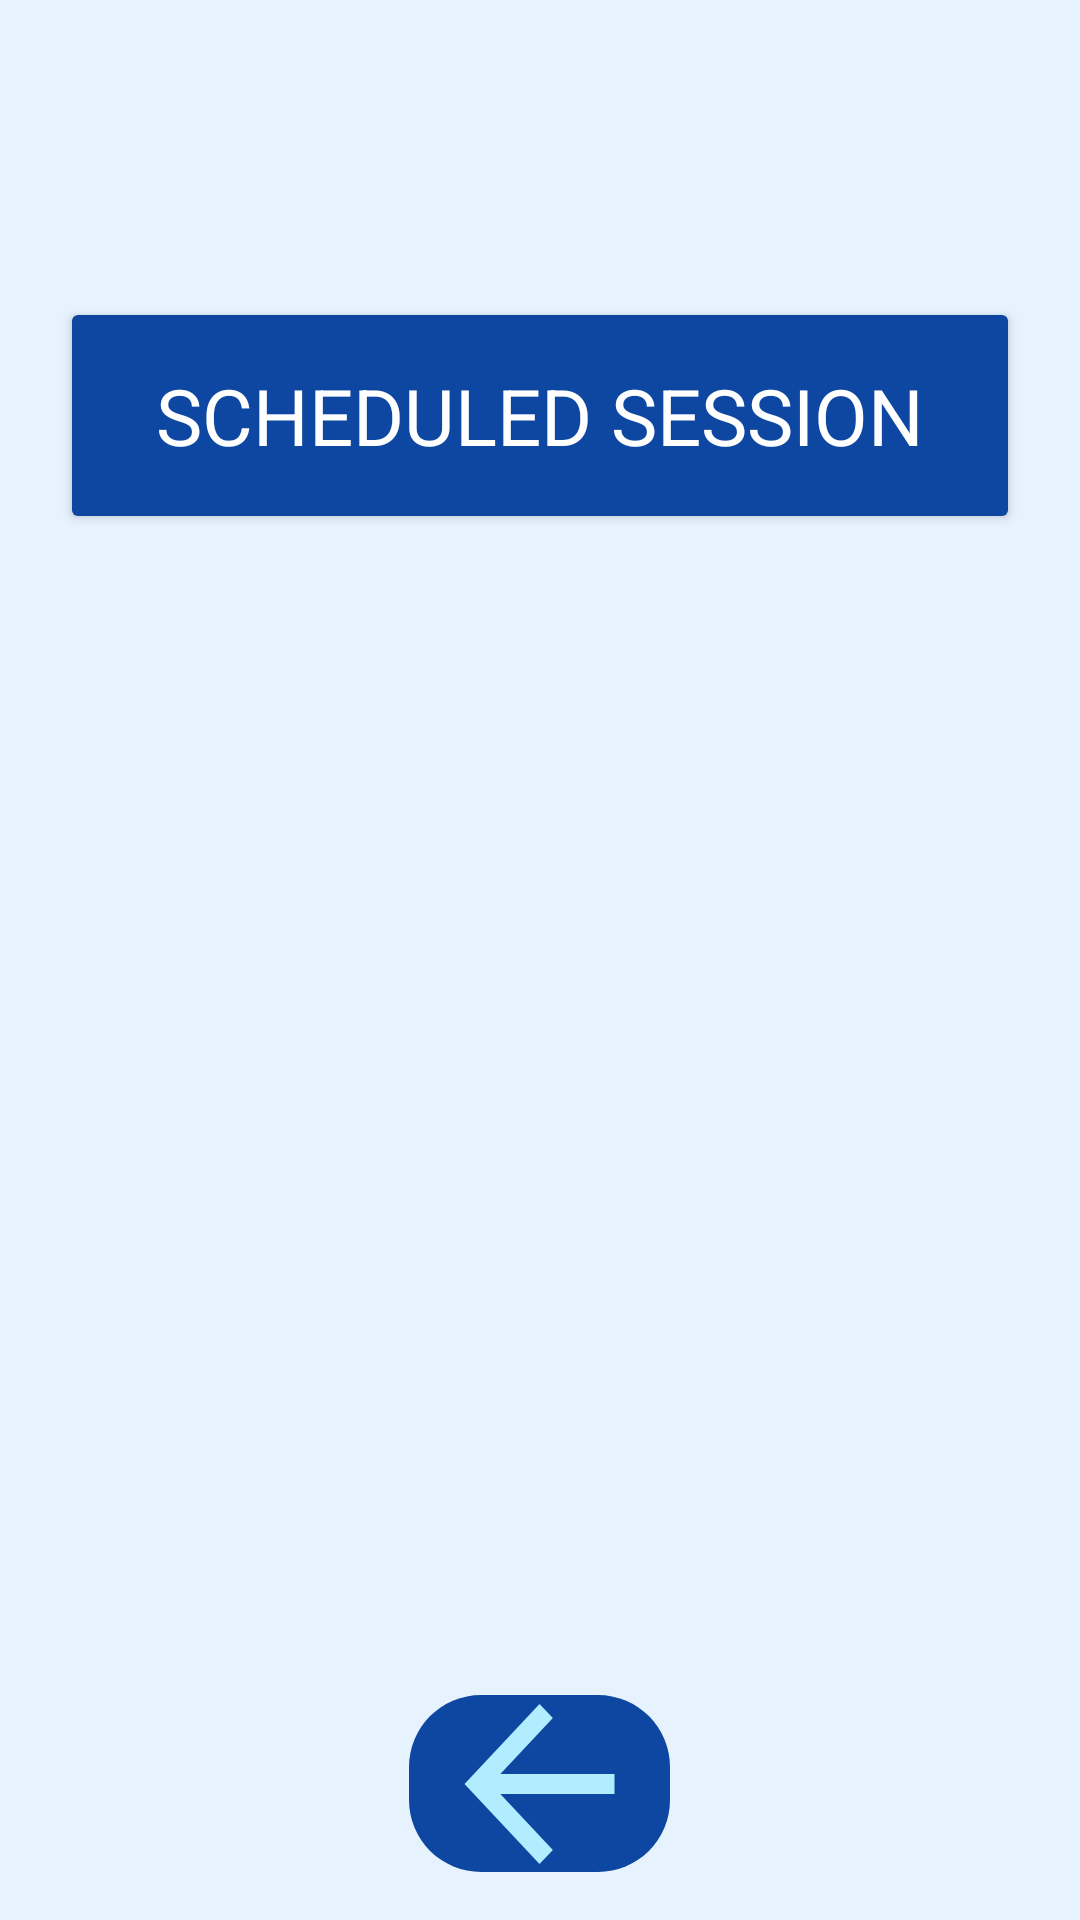

Icons on this 1080 × 1920 Android screen, each with its box as (x1, y1, x2, y2):
arrow back: (409, 1695, 670, 1872)
